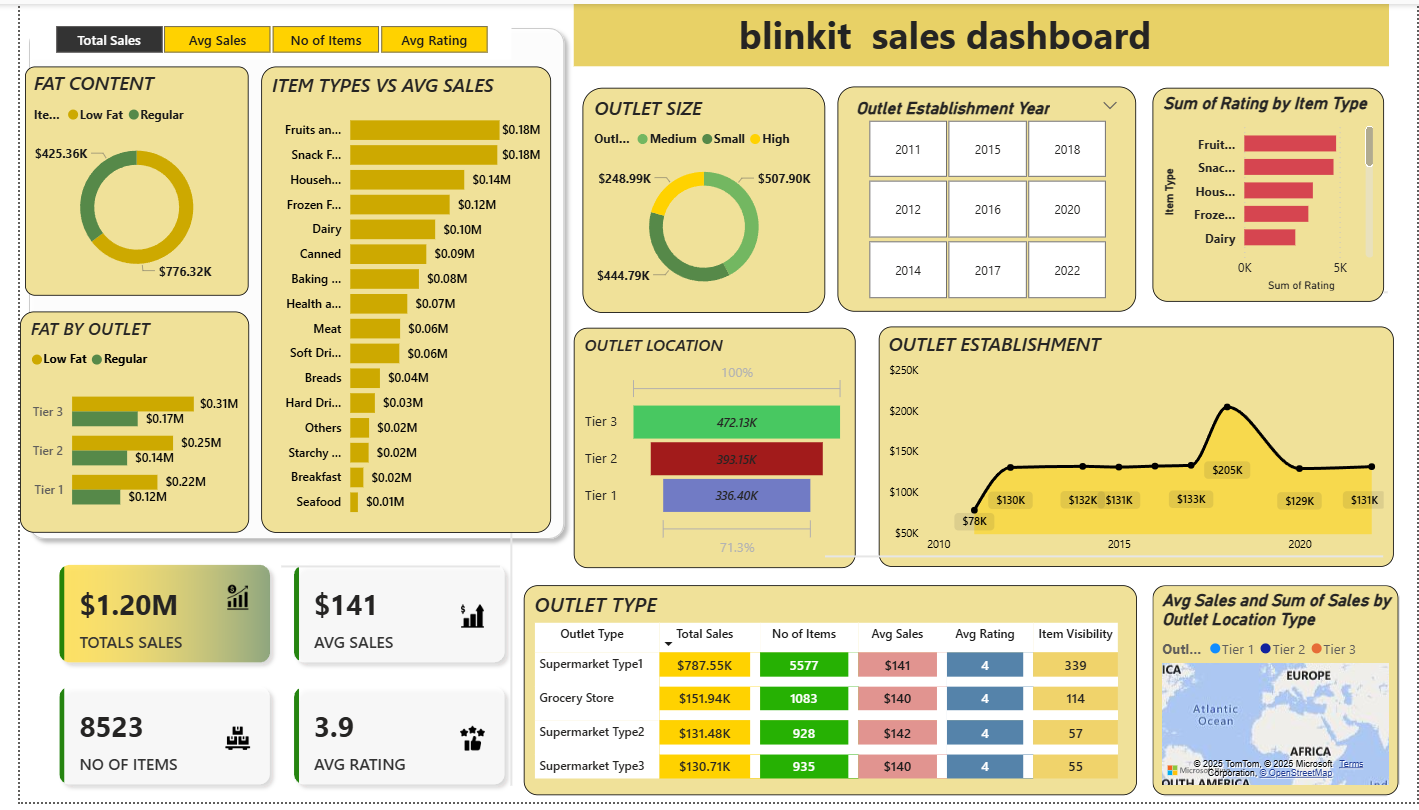

Layout of this report page (visuals, bound fields, positions):
{"tool":"powerbi","page":{"name":"Page 1","canvas":[1400,800],"ordinal":0},"visuals":[{"type":"cardVisual","fields":{"Data":["BlinkIT Grocery Data.Total Sales","BlinkIT Grocery Data.Avg Sales","BlinkIT Grocery Data.No of Items","BlinkIT Grocery Data.Avg Rating"]},"box":[23.1,544.8,481,255.4],"z":0},{"type":"shape","box":[0,14.9,554.4,529.9],"z":1000},{"type":"donutChart","title":"FAT CONTENT","fields":{"Y":["BlinkIT Grocery Data.Total Sales"],"Category":["BlinkIT Grocery Data.Item Fat Content"]},"box":[5.4,62.5,224.2,229.6],"z":2000},{"type":"slicer","fields":{"Values":["Metrics.Metrics"]},"box":[9.5,14.9,482.3,40.8],"z":3000},{"type":"cardVisual","fields":{"Data":["BlinkIT Grocery Data.Total Sales"]},"box":[322,434.1,131.7,74.8],"z":4000},{"type":"clusteredBarChart","title":"FAT BY OUTLET","fields":{"Y":["BlinkIT Grocery Data.Total Sales"],"Category":["BlinkIT Grocery Data.Outlet Location Type"],"Series":["BlinkIT Grocery Data.Item Fat Content"]},"box":[0,308.4,229.6,221.5],"z":5000},{"type":"shape","box":[261.8,544.7,219.5,37.4],"z":6000},{"type":"shape","box":[481.3,323.6,22.8,460.2],"z":7000},{"type":"barChart","title":"ITEM TYPES VS AVG SALES","fields":{"Y":["BlinkIT Grocery Data.Total Sales"],"Category":["BlinkIT Grocery Data.Item Type"]},"box":[241.8,62.5,290.8,467.4],"z":8000},{"type":"stackedAreaChart","title":"OUTLET  ESTABLISHMENT","fields":{"Category":["BlinkIT Grocery Data.Outlet Establishment Year"],"Y":["BlinkIT Grocery Data.Total Sales"]},"box":[860.1,323.4,516.3,240.5],"z":9000},{"type":"shape","box":[1366.9,270.4,4.1,36.7],"z":10000},{"type":"donutChart","title":"OUTLET SIZE","fields":{"Y":["BlinkIT Grocery Data.Total Sales"],"Category":["BlinkIT Grocery Data.Outlet Size"]},"box":[563.9,84.2,243.2,225.5],"z":11000},{"type":"funnel","title":"OUTLET LOCATION","fields":{"Y":["Sum(BlinkIT Grocery Data.Sales)"],"Category":["BlinkIT Grocery Data.Outlet Location Type"]},"box":[554.4,324.7,282.6,240.5],"z":12000},{"type":"shape","box":[806.5,535,559.3,37.4],"z":13000},{"type":"pivotTable","title":"OUTLET TYPE","fields":{"Rows":["BlinkIT Grocery Data.Outlet Type"],"Values":["BlinkIT Grocery Data.Total Sales","BlinkIT Grocery Data.No of Items","BlinkIT Grocery Data.Avg Sales","BlinkIT Grocery Data.Avg Rating","Sum(BlinkIT Grocery Data.Item Visibility)"]},"box":[504.1,582.9,614.1,210.6],"z":14000},{"type":"slicer","fields":{"Values":["BlinkIT Grocery Data.Outlet Establishment Year"]},"box":[819.3,82.9,298.9,225.5],"z":15000},{"type":"clusteredBarChart","fields":{"Category":["BlinkIT Grocery Data.Item Type"],"Y":["Sum(BlinkIT Grocery Data.Rating)"]},"box":[1134.5,84.2,232.3,214.7],"z":16000},{"type":"textbox","box":[554.4,0,816.6,62.5],"z":17000},{"type":"map","fields":{"Series":["BlinkIT Grocery Data.Outlet Location Type"],"Size":["BlinkIT Grocery Data.Avg Sales"]},"box":[1134.6,582.3,246.7,210.4],"z":18000}]}

Visuals, with their boxes in screenshot pixels (x1, y1, x2, y2), scaled from the page's 1400x800 canvas onto the 1419x810 screenshot:
cardVisual - BlinkIT Grocery Data.Total Sales x BlinkIT Grocery Data.Avg Sales: [x1=23, y1=552, x2=511, y2=809]
shape: [x1=0, y1=15, x2=562, y2=552]
"FAT CONTENT" donutChart: [x1=5, y1=63, x2=233, y2=296]
slicer - Metrics.Metrics: [x1=10, y1=15, x2=498, y2=56]
cardVisual - BlinkIT Grocery Data.Total Sales: [x1=326, y1=440, x2=460, y2=515]
"FAT BY OUTLET" clusteredBarChart: [x1=0, y1=312, x2=233, y2=537]
shape: [x1=265, y1=552, x2=488, y2=589]
shape: [x1=488, y1=328, x2=511, y2=794]
"ITEM TYPES VS AVG SALES" barChart: [x1=245, y1=63, x2=540, y2=537]
"OUTLET  ESTABLISHMENT" stackedAreaChart: [x1=872, y1=327, x2=1395, y2=571]
shape: [x1=1385, y1=274, x2=1390, y2=311]
"OUTLET SIZE" donutChart: [x1=572, y1=85, x2=818, y2=314]
"OUTLET LOCATION" funnel: [x1=562, y1=329, x2=848, y2=572]
shape: [x1=817, y1=542, x2=1384, y2=580]
"OUTLET TYPE" pivotTable: [x1=511, y1=590, x2=1133, y2=803]
slicer - BlinkIT Grocery Data.Outlet Establishment Year: [x1=830, y1=84, x2=1133, y2=312]
clusteredBarChart - BlinkIT Grocery Data.Item Type x Sum(BlinkIT Grocery Data.Rating): [x1=1150, y1=85, x2=1385, y2=303]
textbox: [x1=562, y1=0, x2=1390, y2=63]
map - BlinkIT Grocery Data.Outlet Location Type x BlinkIT Grocery Data.Avg Sales: [x1=1150, y1=590, x2=1400, y2=803]
